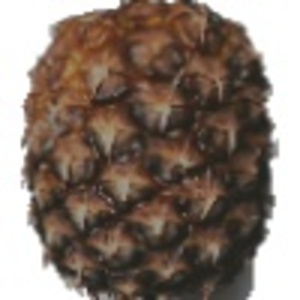abacaxi: (17, 3, 278, 294)
